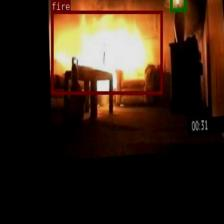fire: (51, 10, 162, 94)
